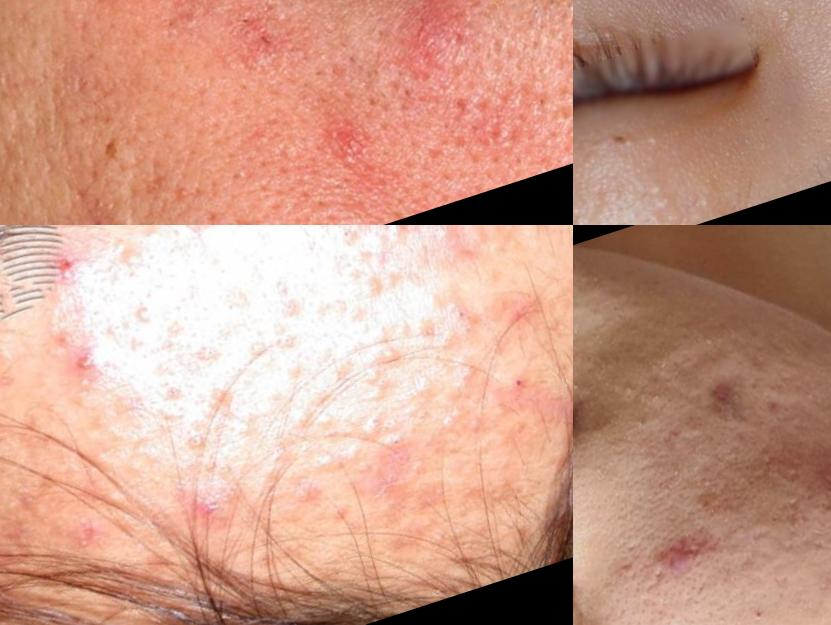acne_scars: (649, 505, 741, 579), (696, 359, 771, 416), (803, 447, 831, 531)
blackhead: (196, 330, 240, 378), (177, 414, 218, 465), (448, 295, 490, 340), (265, 315, 304, 359), (268, 273, 306, 313), (333, 226, 365, 252), (383, 428, 411, 454)
milium: (574, 150, 730, 226), (632, 110, 688, 161), (753, 1, 817, 37)
papular: (336, 1, 543, 118), (179, 487, 234, 537), (70, 336, 116, 383), (62, 514, 108, 561), (426, 226, 470, 258)
whitehead: (36, 316, 87, 371), (295, 435, 351, 485), (298, 335, 353, 383), (1, 333, 38, 402), (127, 285, 174, 337), (301, 397, 350, 445), (597, 368, 650, 412), (432, 398, 475, 439), (356, 403, 396, 446), (357, 269, 396, 308), (148, 378, 189, 415), (319, 287, 357, 326), (239, 334, 277, 370), (373, 338, 411, 372), (278, 360, 314, 391), (378, 226, 415, 248), (310, 377, 313, 380)
